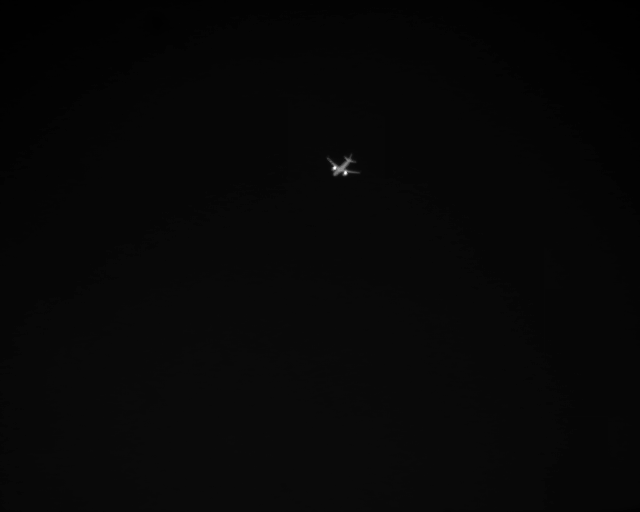Target: (328, 156, 360, 177)
